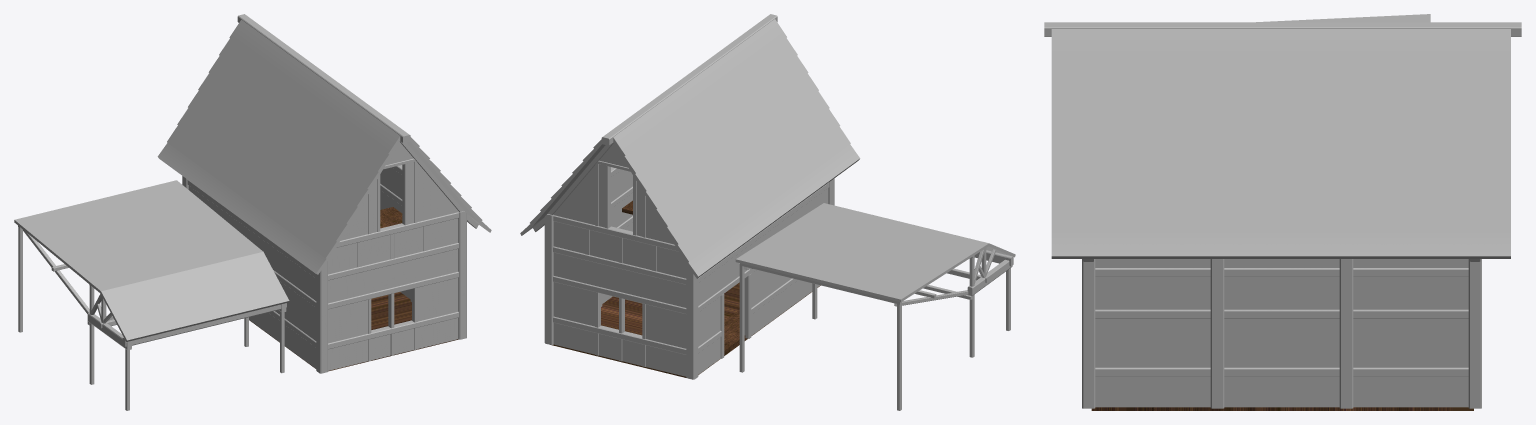
The model's file is MESH_Blacksmith_1.fbx.
The picture shows the model from 3 angles, left to right: view 1: azimuth 30°, elevation 25°; view 2: azimuth 150°, elevation 25°; view 3: azimuth 270°, elevation 25°; orthographic projection. The views are drawn at different scales.
Parts seen in each view (by area): view 1: MESH_BlackSmith_1; view 2: MESH_BlackSmith_1; view 3: MESH_BlackSmith_1.
Part boxes in pixels (<box>): MESH_BlackSmith_1: <box>14,14,491,410</box>; MESH_BlackSmith_1: <box>520,14,1015,410</box>; MESH_BlackSmith_1: <box>1044,14,1521,410</box>.
Bounding box in the file's own units: 1120 × 719 × 926.
